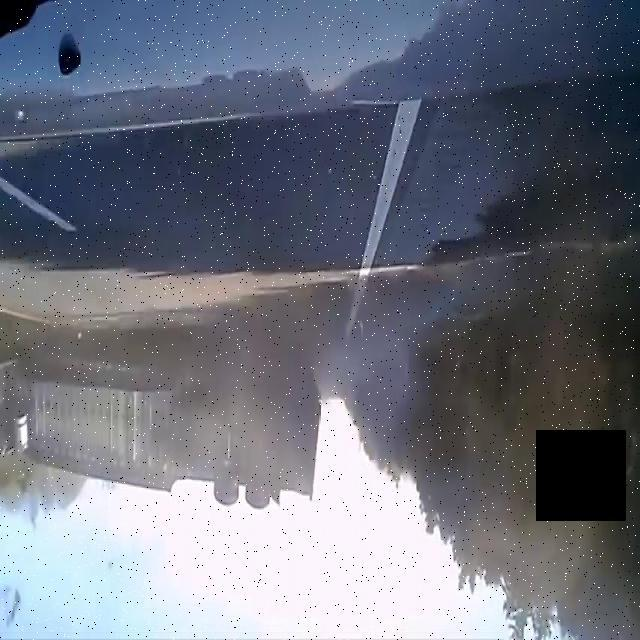severe: (0, 328, 328, 520)
